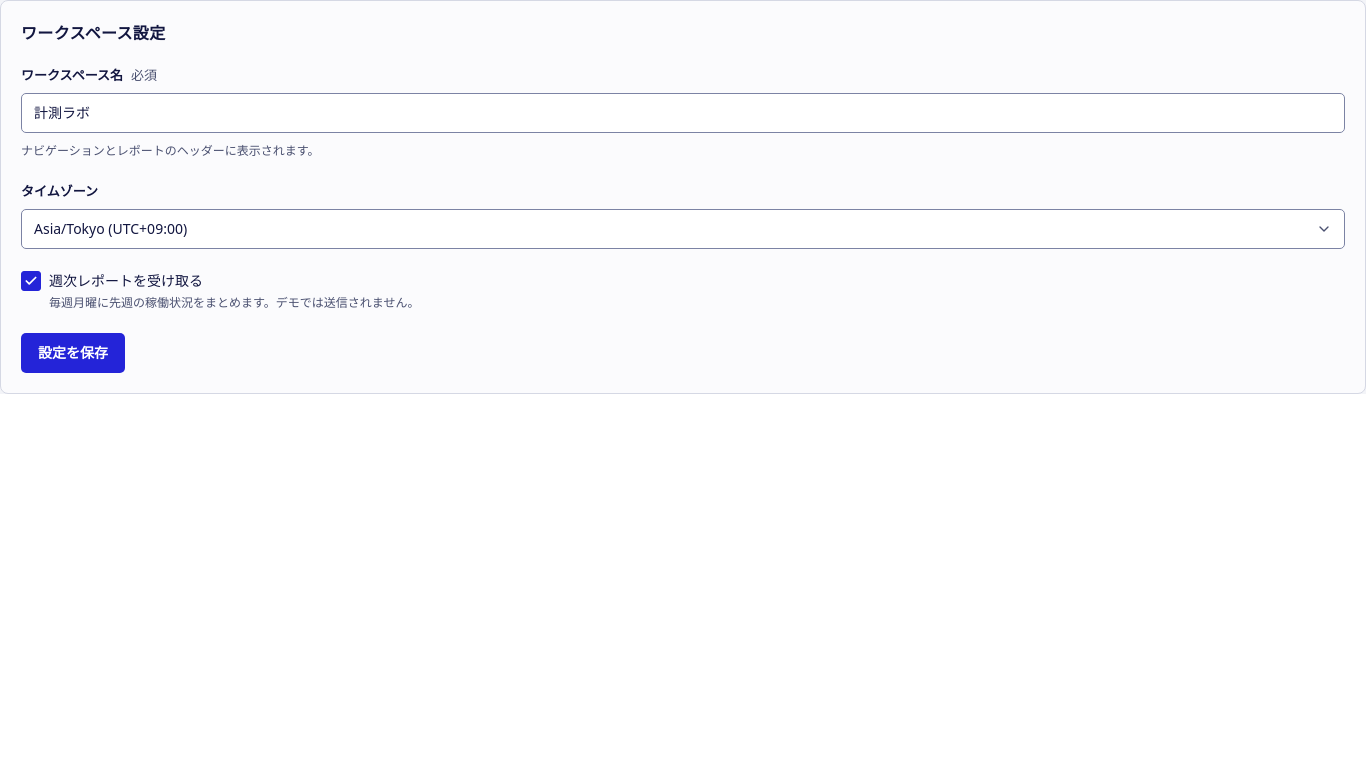
Workspace flows › saves settings and reports completion
This screenshot has width=1366, height=768.
Replace the text in the field labelled "ワークスペース名" with "新しいラボ" at (683, 113), box [21,93,1345,133]
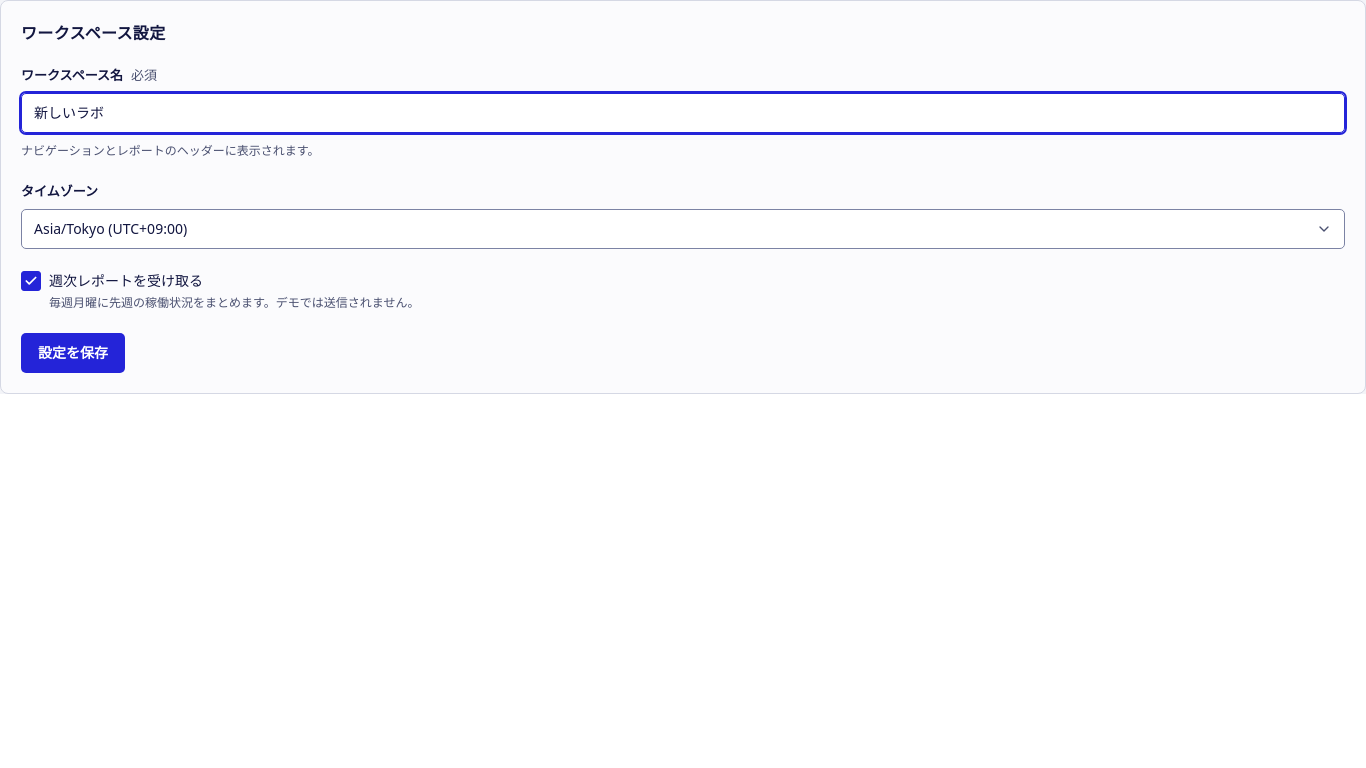
Click the button "設定を保存" at (73, 353), box [21,333,125,373]
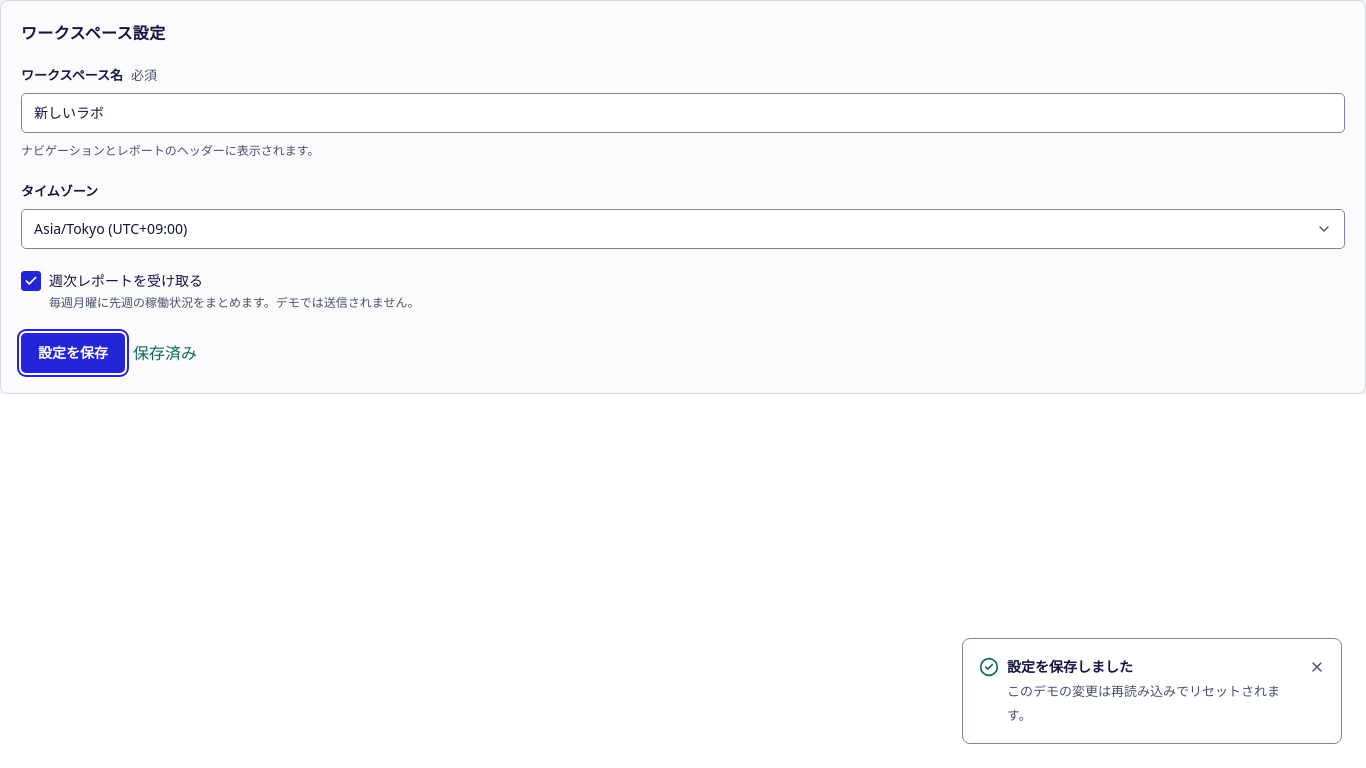
Expected: the text "保存済み" is shown, [133,339,197,367]
Expected: the text "設定を保存しました" is shown, [1007,657,1133,676]
